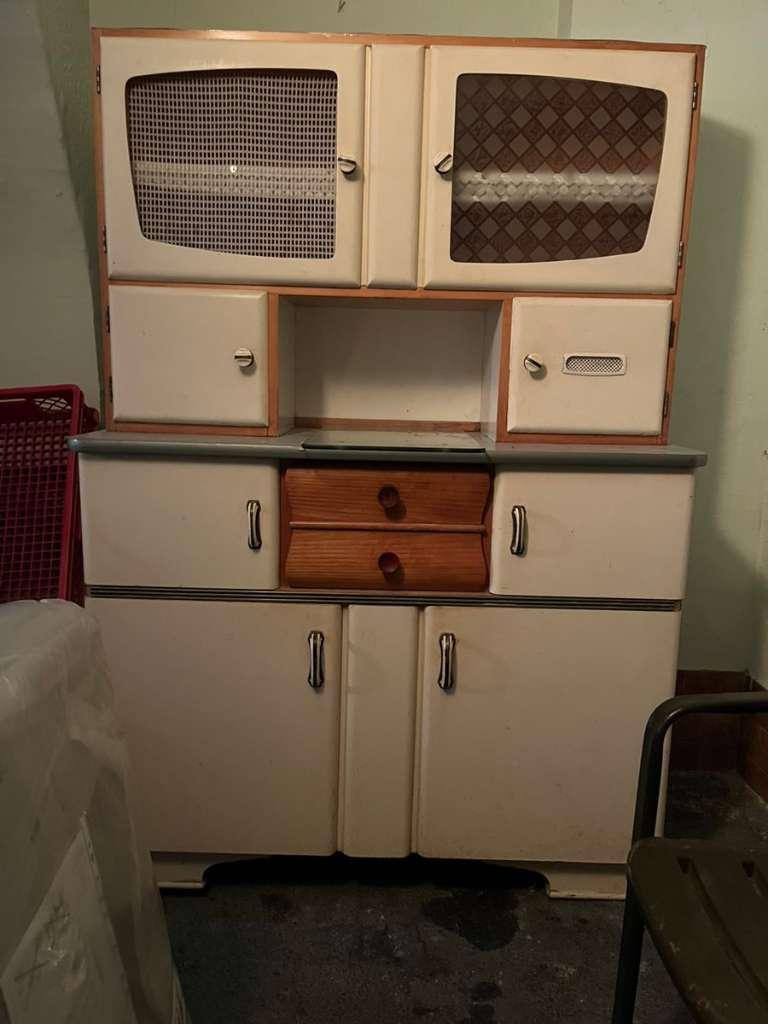cabinet_door: (420, 607, 672, 860), (89, 601, 337, 856), (423, 48, 682, 288), (99, 37, 354, 277), (88, 464, 280, 580), (495, 480, 689, 593), (506, 298, 672, 426), (113, 293, 272, 423), (293, 458, 488, 526), (294, 528, 487, 594)
handle: (306, 624, 328, 695), (430, 143, 463, 187), (434, 631, 455, 698), (507, 501, 528, 559), (377, 481, 401, 524), (246, 494, 263, 554), (334, 147, 360, 186), (517, 350, 550, 380), (229, 342, 257, 374), (379, 547, 400, 585)
